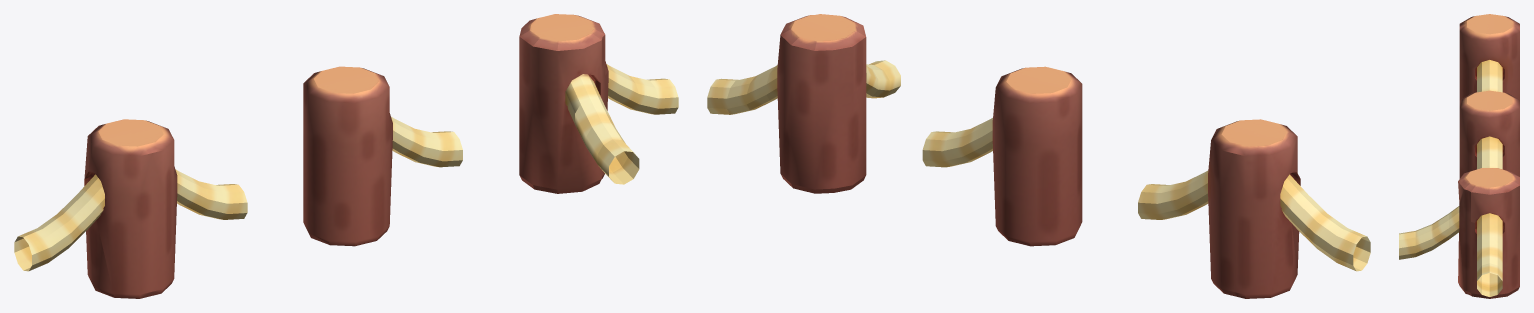
The model's file is Fence_Modular_Pieces.fbx.
3 views of the same model, side by side, from view 1: azimuth 30°, elevation 25°; view 2: azimuth 150°, elevation 25°; view 3: azimuth 270°, elevation 25° (orthographic). The views are drawn at different scales.
Visible parts, largest first — view 1: FenceContinous, FencePerpendicular, FenceSolo; view 2: FenceContinous, FencePerpendicular, FenceSolo; view 3: FencePerpendicular, FenceSolo, FenceContinous.
Part boxes in pixels (left/top/right/bottom): FenceContinous: left=14, top=119, right=247, bottom=298; FencePerpendicular: left=519, top=14, right=678, bottom=193; FenceSolo: left=303, top=66, right=462, bottom=246; FenceContinous: left=1138, top=119, right=1370, bottom=298; FencePerpendicular: left=707, top=14, right=900, bottom=193; FenceSolo: left=922, top=66, right=1082, bottom=246; FencePerpendicular: left=1399, top=168, right=1519, bottom=298; FenceSolo: left=1459, top=90, right=1519, bottom=178; FenceContinous: left=1459, top=14, right=1519, bottom=99.
Size of the model in its own units: 6 by 1.34 by 1.33.
1 material, 1 textured.
